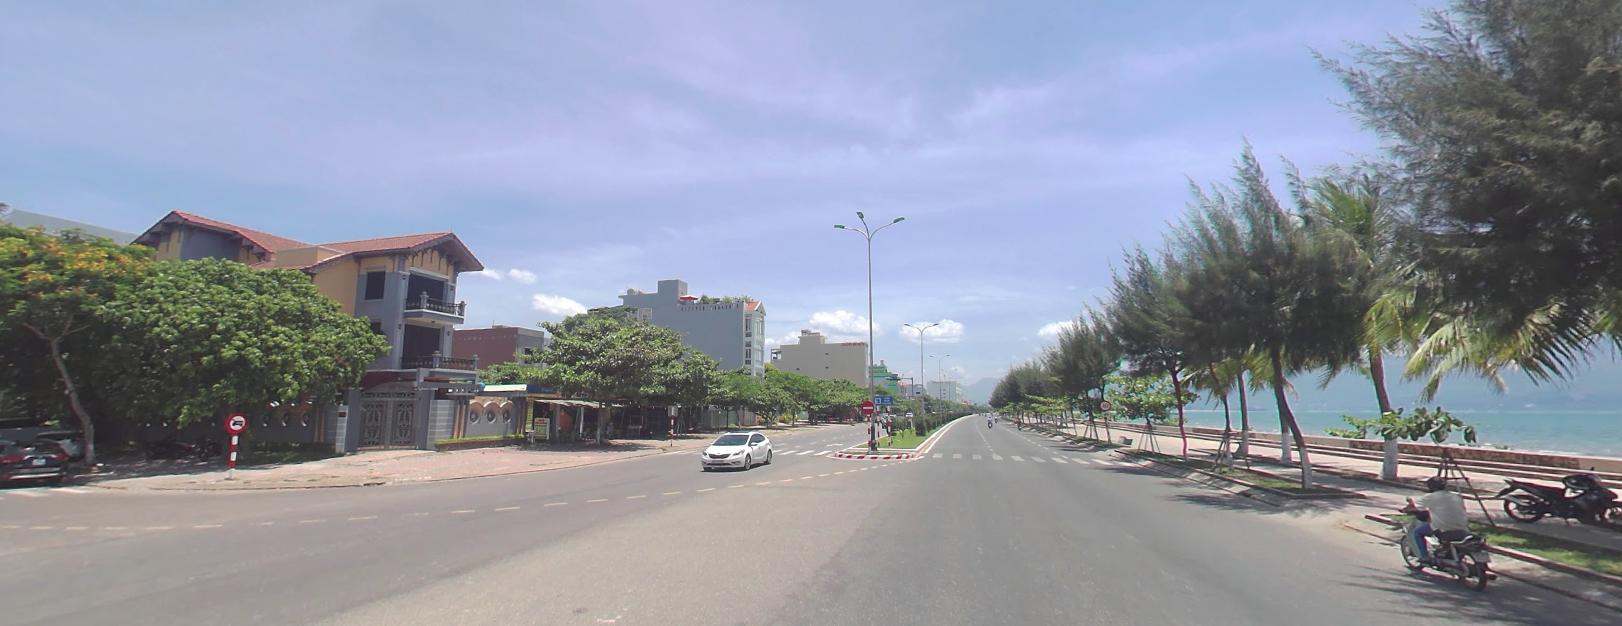Cam con lai: (225, 410, 247, 432), (226, 411, 246, 431)
Cam nguoc chieu: (861, 398, 874, 412), (861, 399, 873, 411)
Gioi han toc do: (1099, 398, 1111, 409), (1099, 399, 1109, 409)
